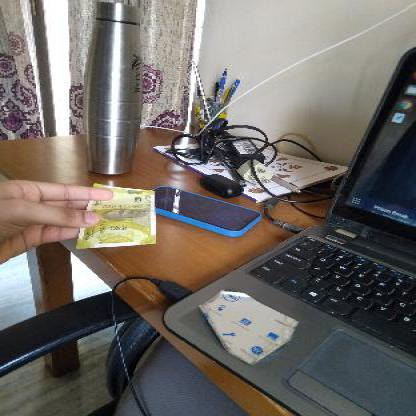New20Front: (82, 182, 156, 246)
